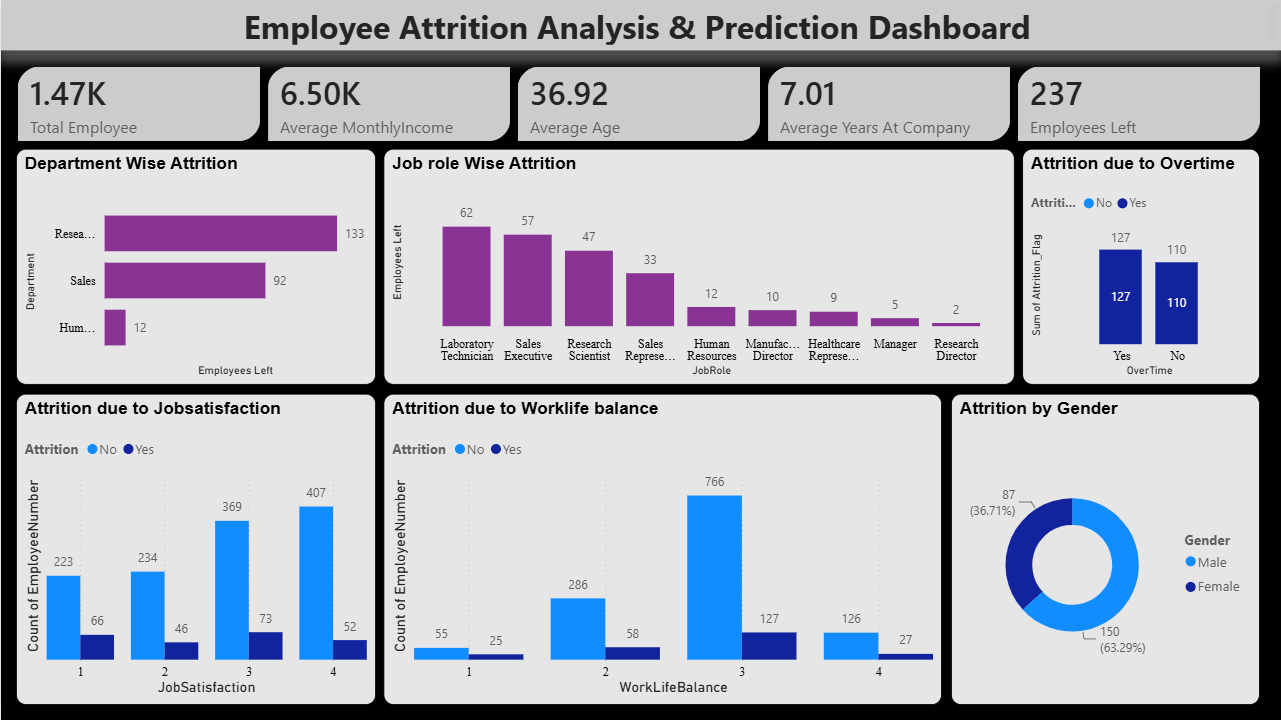

The dashboard page shown, as its layout file describes it:
{"tool":"powerbi","page":{"name":"Page 1","canvas":[1280,720],"ordinal":0},"visuals":[{"type":"textbox","box":[0,0,1280,50],"z":0},{"type":"cardVisual","fields":{"Data":["CountNonNull(IBM_EmpDataset.EmployeeNumber)","Avg(IBM_EmpDataset.MonthlyIncome)","Avg(IBM_EmpDataset.Age)","Avg(IBM_EmpDataset.YearsAtCompany)","IBM_EmpDataset.Employees Left"]},"box":[0,50,1280,108.8],"z":1000},{"type":"clusteredBarChart","title":"Department Wise Attrition","fields":{"Category":["IBM_EmpDataset.Department"],"Y":["IBM_EmpDataset.Employees Left"]},"box":[15,148.8,360,236.2],"z":2000},{"type":"clusteredColumnChart","title":"Job role Wise Attrition","fields":{"Category":["IBM_EmpDataset.JobRole"],"Y":["IBM_EmpDataset.Employees Left"]},"box":[382.5,148.8,631.2,236.2],"z":3000},{"type":"columnChart","title":"Attrition due to Overtime","fields":{"Category":["IBM_EmpDataset.OverTime"],"Series":["IBM_EmpDataset.Attrition"],"Y":["Sum(IBM_EmpDataset.Attrition_Flag)"]},"box":[1021.2,148.8,237.5,236.2],"z":4000},{"type":"clusteredColumnChart","title":"Attrition due to Jobsatisfaction","fields":{"Category":["IBM_EmpDataset.JobSatisfaction"],"Series":["IBM_EmpDataset.Attrition"],"Y":["CountNonNull(IBM_EmpDataset.EmployeeNumber)"]},"box":[15,393.8,360,311.2],"z":5000},{"type":"clusteredColumnChart","title":"Attrition due to Worklife balance","fields":{"Category":["IBM_EmpDataset.WorkLifeBalance"],"Series":["IBM_EmpDataset.Attrition"],"Y":["CountNonNull(IBM_EmpDataset.EmployeeNumber)"]},"box":[382.5,393.8,558.8,311.2],"z":6000},{"type":"donutChart","title":"Attrition by Gender","fields":{"Category":["IBM_EmpDataset.Gender"],"Y":["CountNonNull(IBM_EmpDataset.EmployeeNumber)"],"Series":["IBM_EmpDataset.Attrition"]},"box":[950,393.8,308.8,311.2],"z":7000}]}

Visuals, with their boxes in screenshot pixels (x1, y1, x2, y2), scaled from the page's 1280x720 canvas onto the 1281x720 screenshot:
textbox: box=[0, 0, 1280, 50]
cardVisual - CountNonNull(IBM_EmpDataset.EmployeeNumber) x Avg(IBM_EmpDataset.MonthlyIncome): box=[0, 50, 1280, 159]
"Department Wise Attrition" clusteredBarChart: box=[15, 149, 375, 385]
"Job role Wise Attrition" clusteredColumnChart: box=[383, 149, 1014, 385]
"Attrition due to Overtime" columnChart: box=[1022, 149, 1260, 385]
"Attrition due to Jobsatisfaction" clusteredColumnChart: box=[15, 394, 375, 705]
"Attrition due to Worklife balance" clusteredColumnChart: box=[383, 394, 942, 705]
"Attrition by Gender" donutChart: box=[951, 394, 1260, 705]
